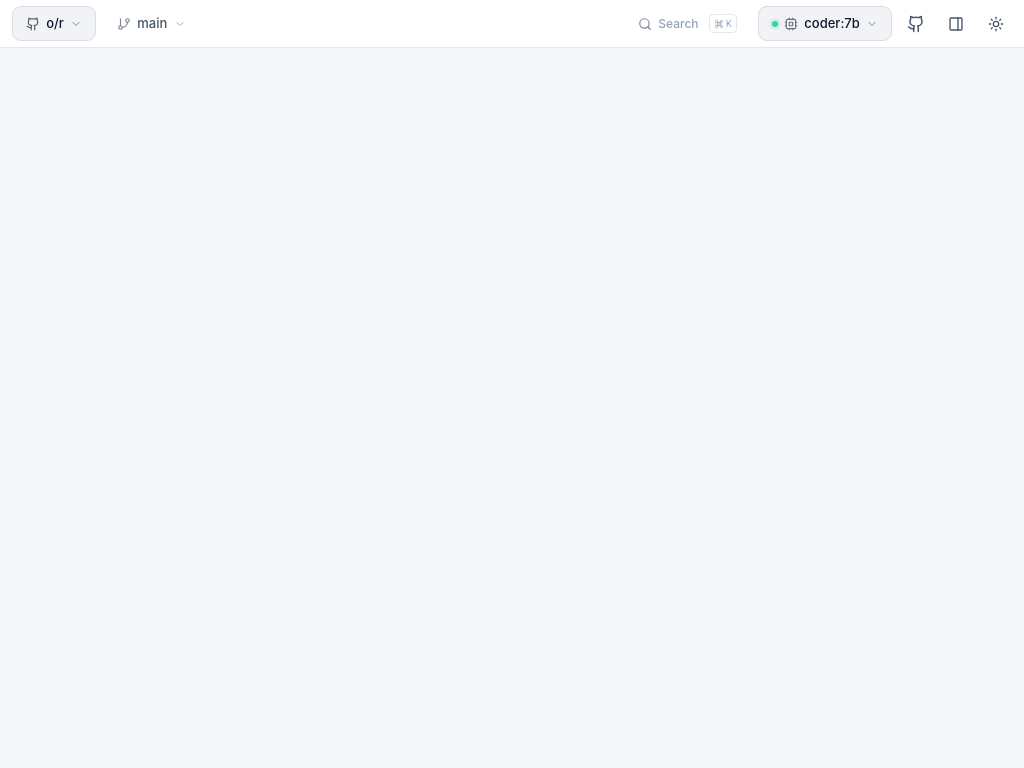
Scenario: header menus › selects a branch after mousedown and closes on outside click
Click the button with aria-label "Selected branch: main" at [151, 23], box x1=104 y1=7 x2=198 y2=40
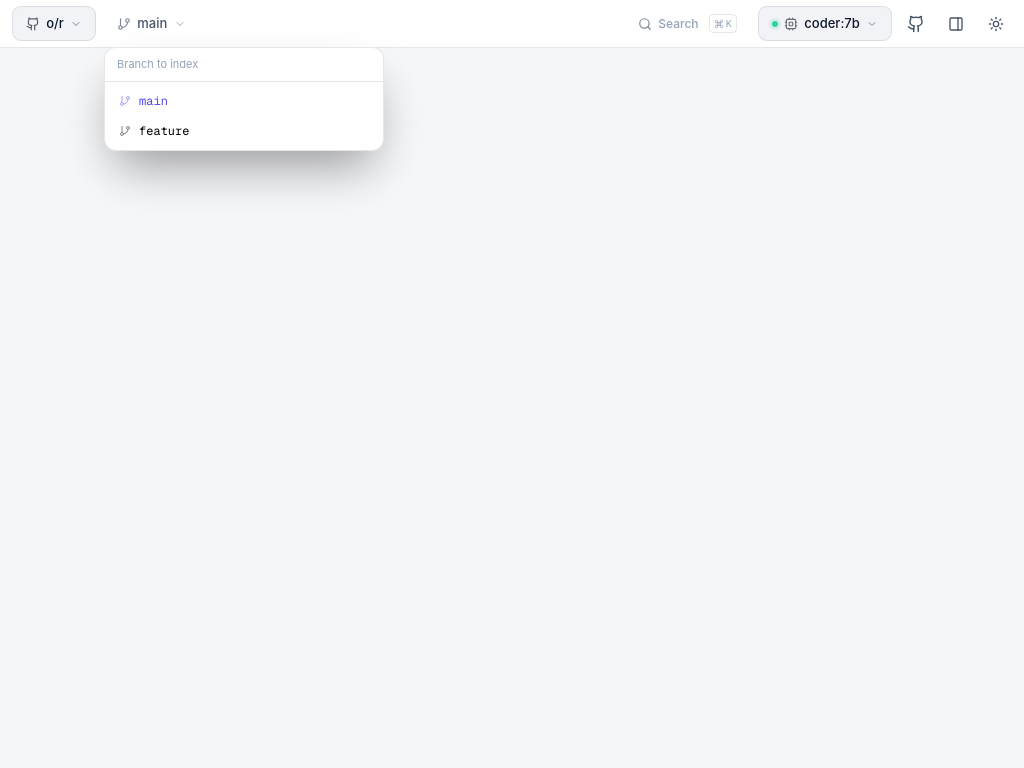
Click the option "feature" at [164, 131], box x1=109 y1=116 x2=379 y2=146
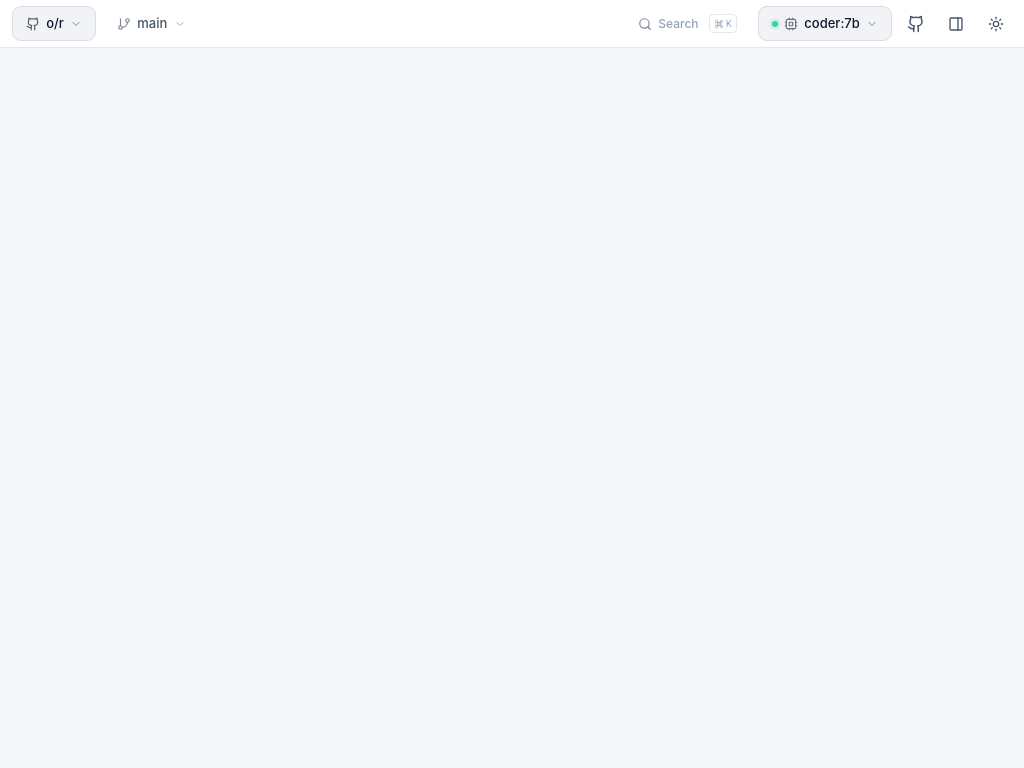
Click the button with aria-label "Selected branch: main" at [151, 23], box x1=104 y1=7 x2=198 y2=40
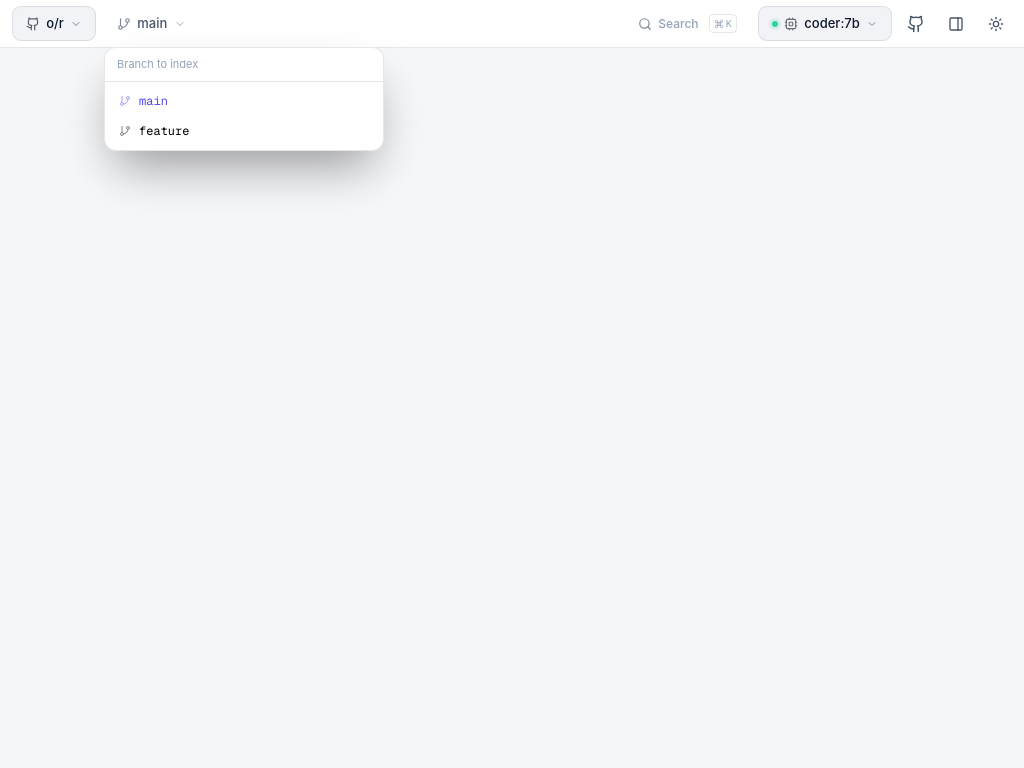
Press the mouse on the element showing "o/r main Branch to index main feature Search K coder:7b" at [512, 384], box x1=0 y1=0 x2=1023 y2=767
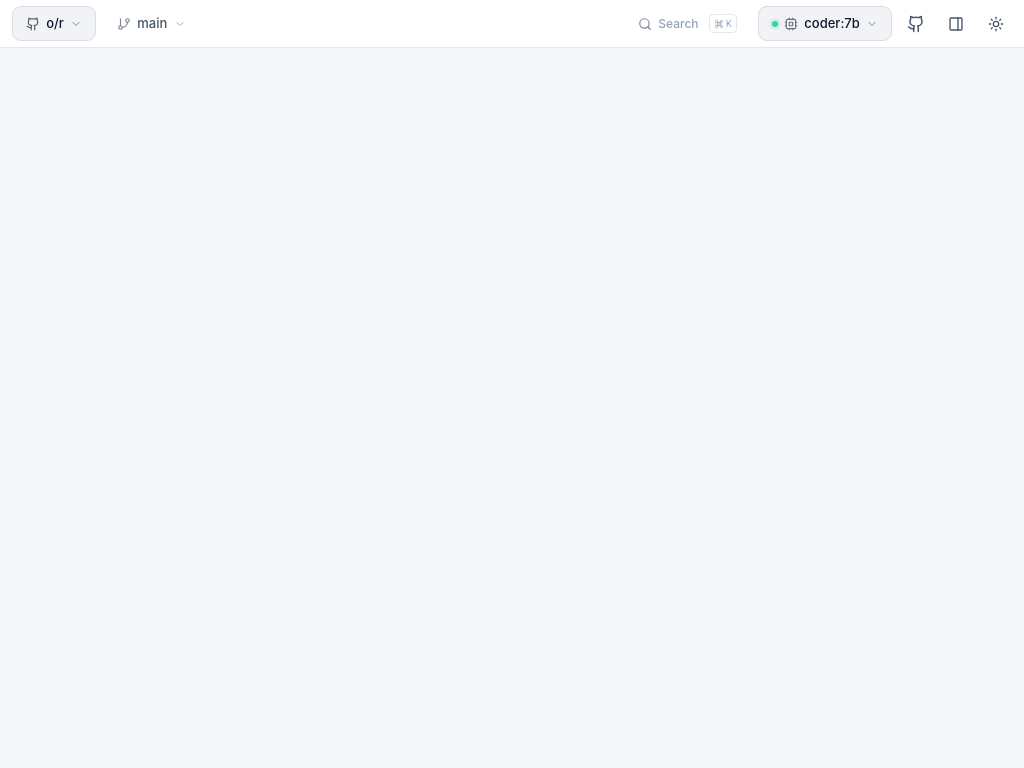
Now the list is gone
